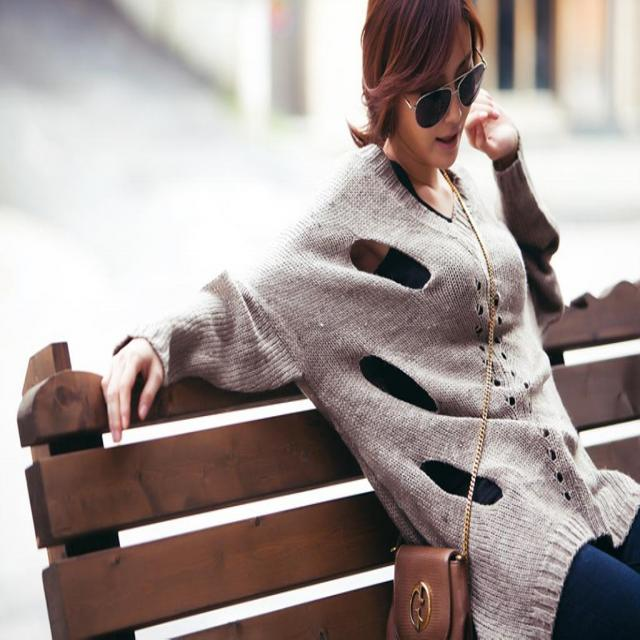nomask: (393, 24, 472, 165)
